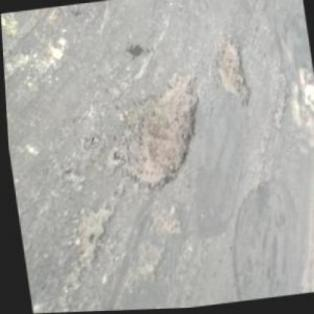Hueco: (102, 70, 210, 192), (211, 37, 252, 109)
